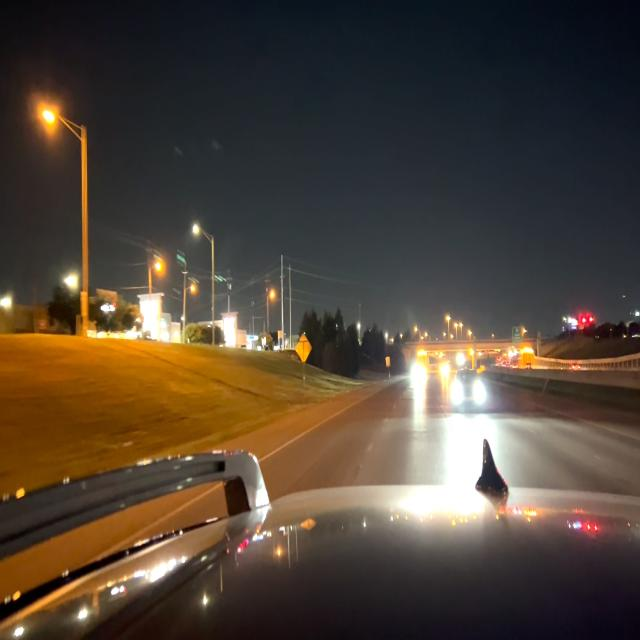back-of-sign: (295, 331, 312, 364)
